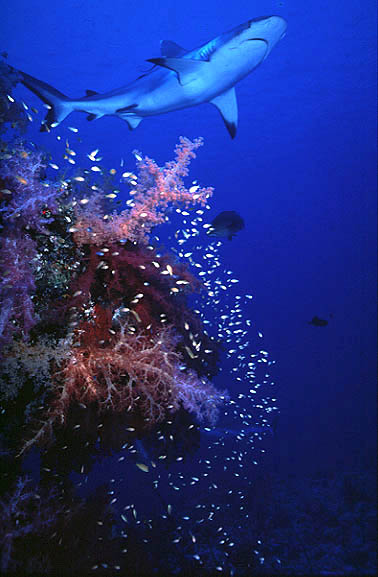Carcharhinus_amblyrhynchos: (27, 2, 309, 139)
